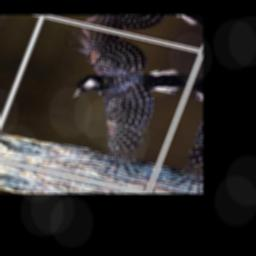Woodpecker: (27, 25, 196, 178)
